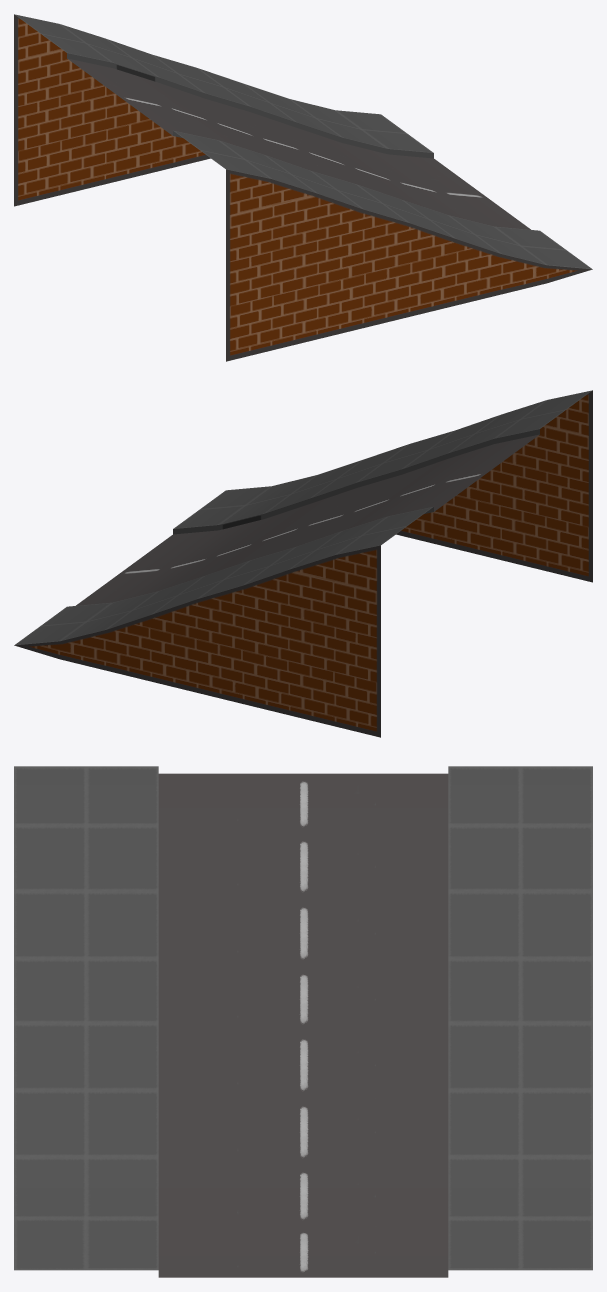
Rendered from wegup.fbx.
3 views of the same model, one above another, from view 1: azimuth 30°, elevation 25°; view 2: azimuth 150°, elevation 25°; view 3: azimuth 270°, elevation 25° (orthographic). The views are drawn at different scales.
Visible parts, largest first — view 1: wegup; view 2: wegup; view 3: wegup.
Boxes of the visible parts, <box> form: wegup: <box>14,14,592,361</box>; wegup: <box>14,390,592,737</box>; wegup: <box>14,766,592,1277</box>.
Bounding box in the file's own units: 22.88 × 11.62 × 22.88.
